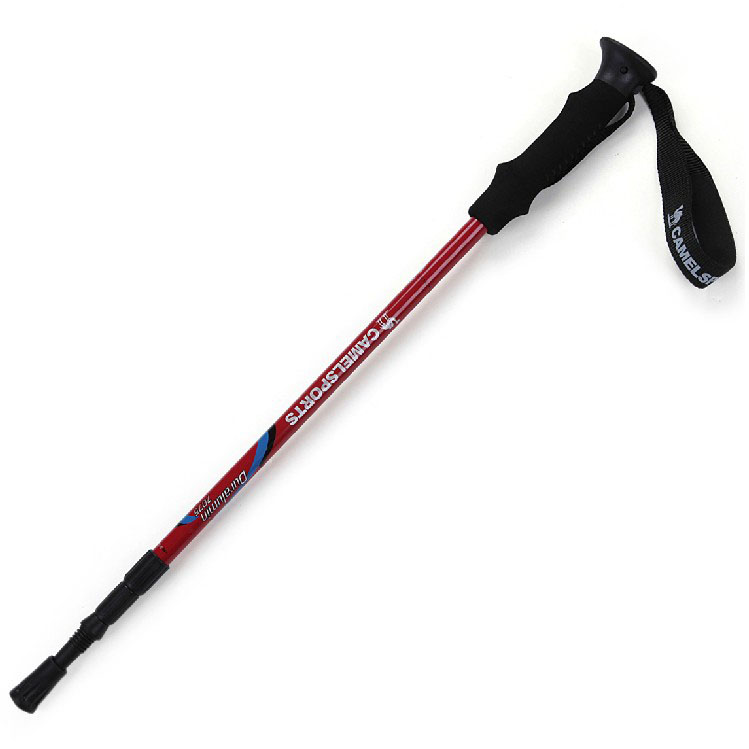straight_bar: (14, 122, 574, 744)
